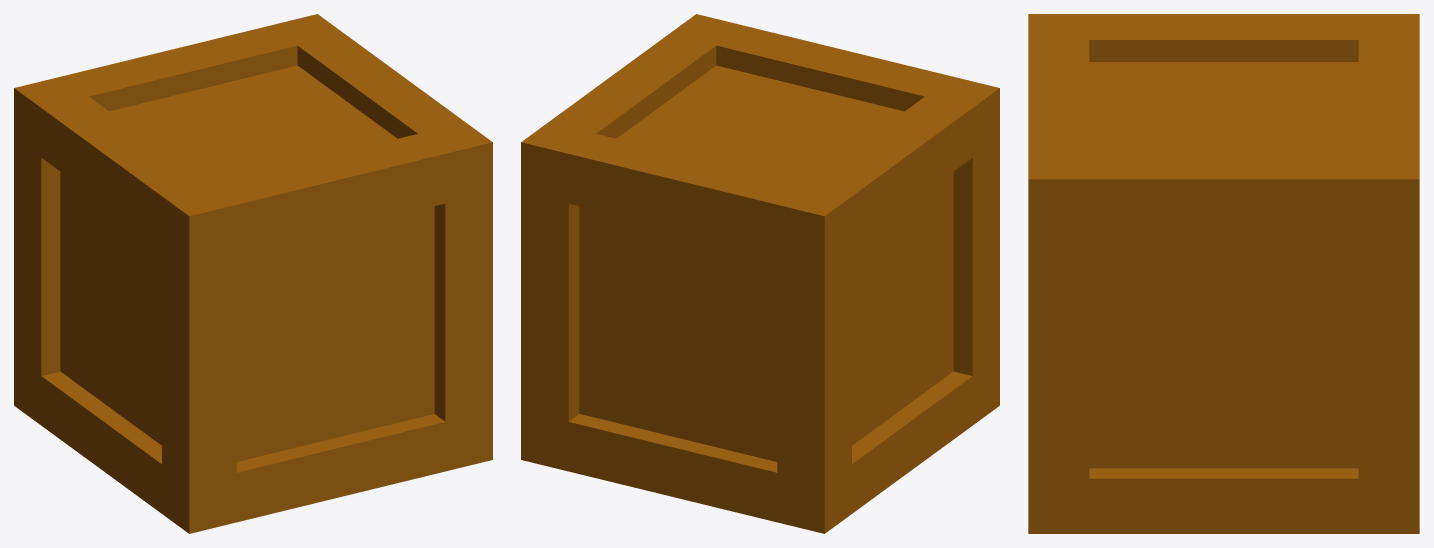
File: Wooden Crate S1.1.fbx
3 views of the same model, side by side, from view 1: azimuth 30°, elevation 25°; view 2: azimuth 150°, elevation 25°; view 3: azimuth 270°, elevation 25° (orthographic). The views are drawn at different scales.
Visible parts, largest first — view 1: Small Crate; view 2: Small Crate; view 3: Small Crate.
Part boxes in pixels (x1,y1,x2,y2): Small Crate: [14, 14, 492, 533]; Small Crate: [521, 14, 999, 533]; Small Crate: [1028, 14, 1419, 533].
Bounding box in the file's own units: 160 × 160 × 160.
